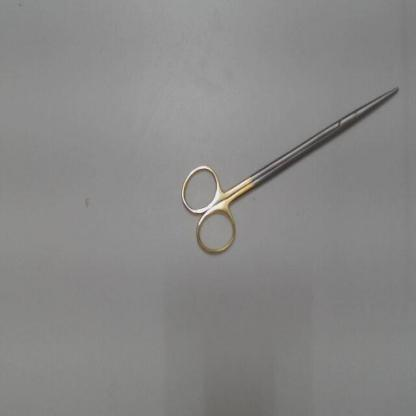7 Metzenbaum Scissors: (177, 82, 402, 261)
